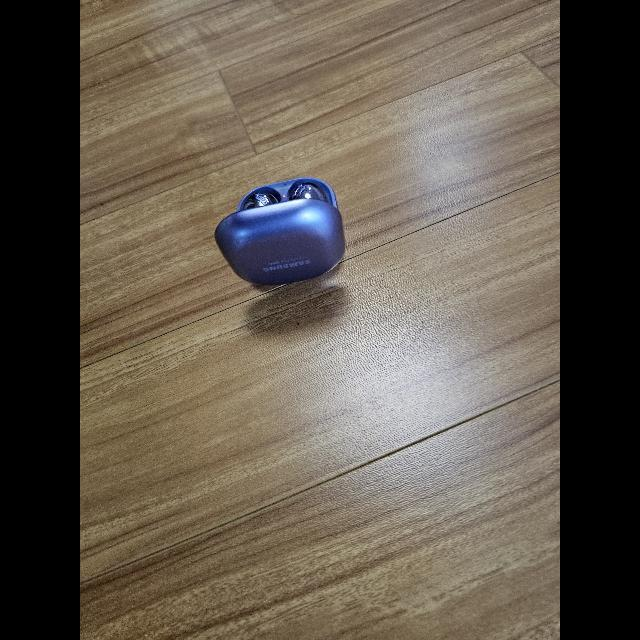buds-pro: (212, 175, 348, 289)
